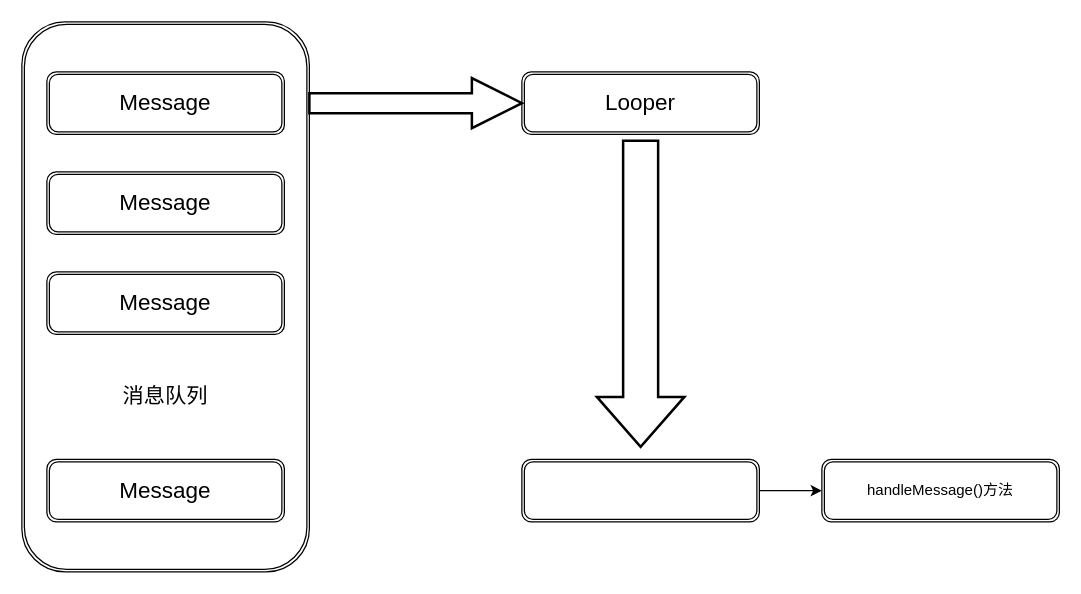
Image size: 1081x594. Some labels were removed from this diagram. Here are the shapes that lost their labels. From the top down, the centre of each, then its label:
At [415,102]: "取出待处理消息".
At [640,293]: "回调disPatchMessage()方法".
At [640,490]: "Handler".
